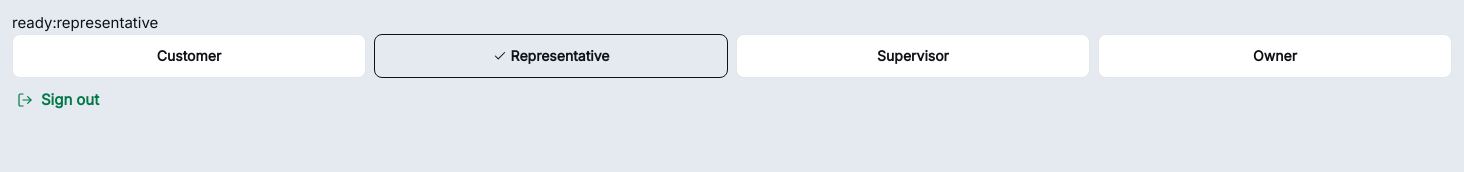
Test: session › shows the error line when the switch fails
Expected: the text with test id "probe" reads "ready:representative", left=12, top=13, right=158, bottom=32
Click the radio button with aria-label "Demo supervisor". click: (913, 56)
box: left=736, top=34, right=1090, bottom=78
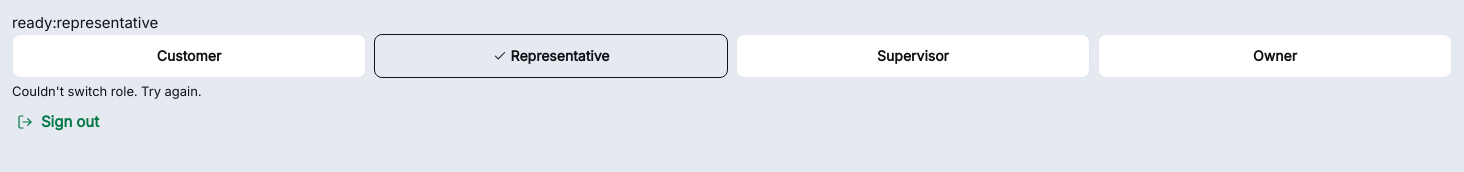
Result: the text "Couldn't switch role. Try again." is shown at left=12, top=83, right=201, bottom=99
